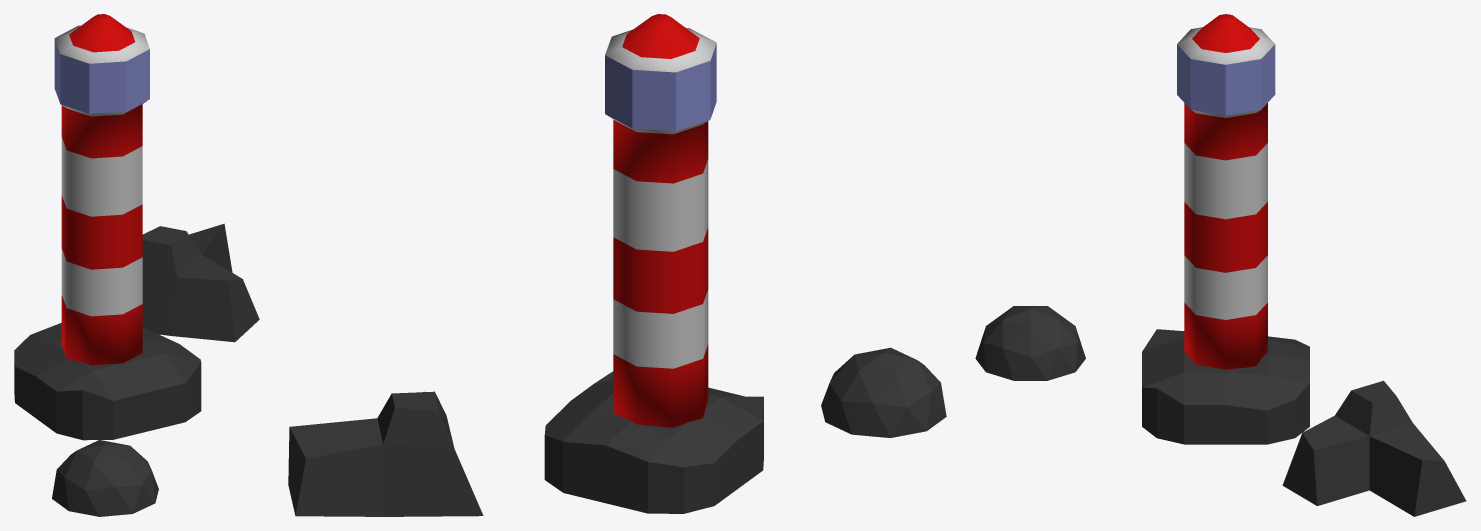
The model's file is lighthouse.obj.
3 views of the same model, side by side, from view 1: azimuth 30°, elevation 25°; view 2: azimuth 150°, elevation 25°; view 3: azimuth 270°, elevation 25° (orthographic). The views are drawn at different scales.
Parts seen in each view (by area): view 1: Cube_Cube.001; view 2: Cube_Cube.001; view 3: Cube_Cube.001.
Part boxes in pixels (x1,y1,x2,y2): Cube_Cube.001: (14, 14, 259, 516); Cube_Cube.001: (288, 14, 946, 516); Cube_Cube.001: (975, 14, 1466, 516).
Size of the model in its own units: 14.14 by 14.73 by 16.39.
